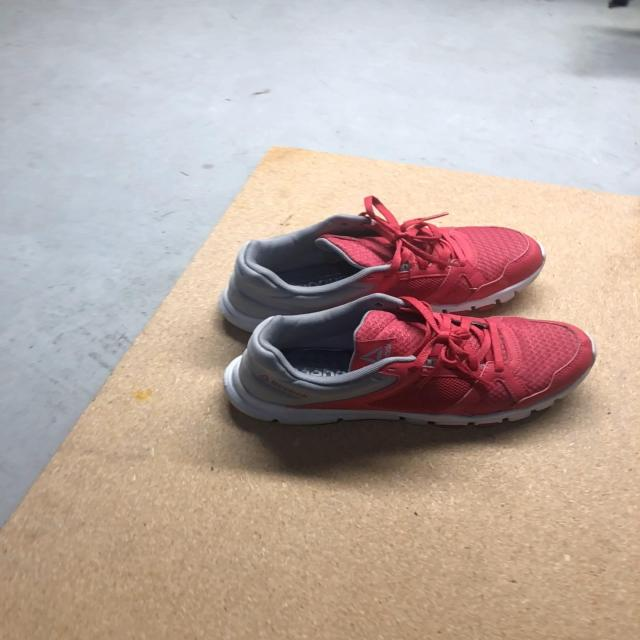shoe: (231, 292, 610, 421), (218, 216, 544, 325)
